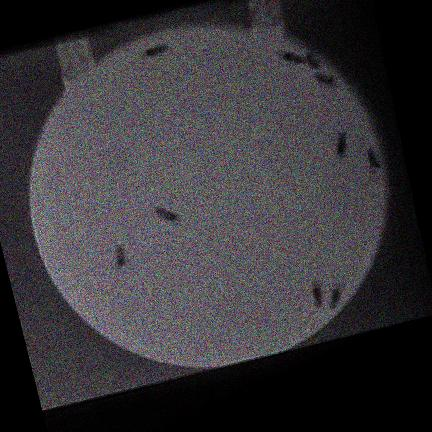fly: (278, 51, 307, 65), (143, 44, 169, 58), (367, 147, 381, 172), (156, 207, 179, 222), (315, 72, 335, 87), (336, 133, 347, 159), (312, 282, 323, 308), (330, 286, 342, 307), (114, 246, 126, 267), (306, 54, 321, 70)
